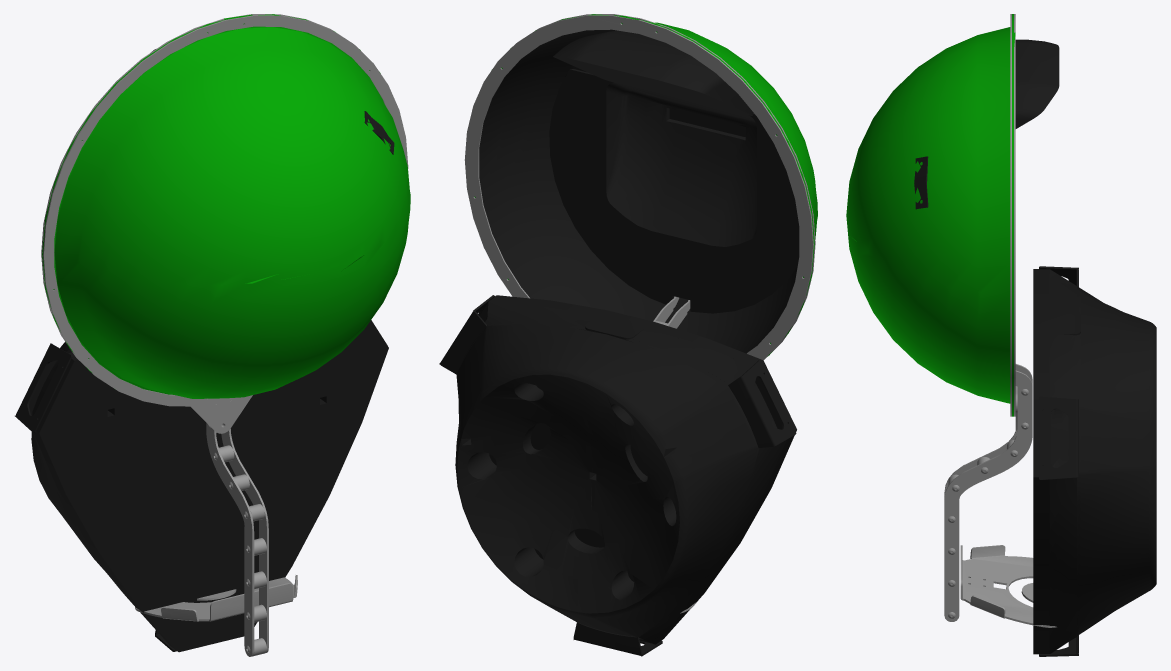
Rendered from yawvr.FBX.
The picture shows the model from 3 angles, left to right: view 1: azimuth 30°, elevation 25°; view 2: azimuth 150°, elevation 25°; view 3: azimuth 270°, elevation 25°; orthographic projection. The views are drawn at different scales.
Visible parts, largest first — view 1: BOWL, BASE, topedge, legholder; view 2: BASE, sittingon, bowlinside, topedge, BOWL, legholder; view 3: BOWL, BASE, legholder, sittingon, topedge.
Boxes of the visible parts, x1,y1,x2,y2 form: BOWL: [42, 14, 410, 398]; BASE: [15, 320, 388, 652]; topedge: [41, 14, 408, 406]; legholder: [135, 395, 297, 656]; BASE: [439, 295, 796, 656]; sittingon: [549, 30, 799, 313]; bowlinside: [479, 29, 797, 353]; topedge: [464, 14, 815, 360]; BOWL: [474, 14, 817, 356]; legholder: [653, 296, 697, 613]; BOWL: [846, 14, 1015, 416]; BASE: [1033, 266, 1156, 656]; legholder: [944, 364, 1056, 627]; sittingon: [914, 39, 1059, 209]; topedge: [1010, 14, 1015, 416].
Size of the model in its own units: 79.8 by 133 by 61.44.
